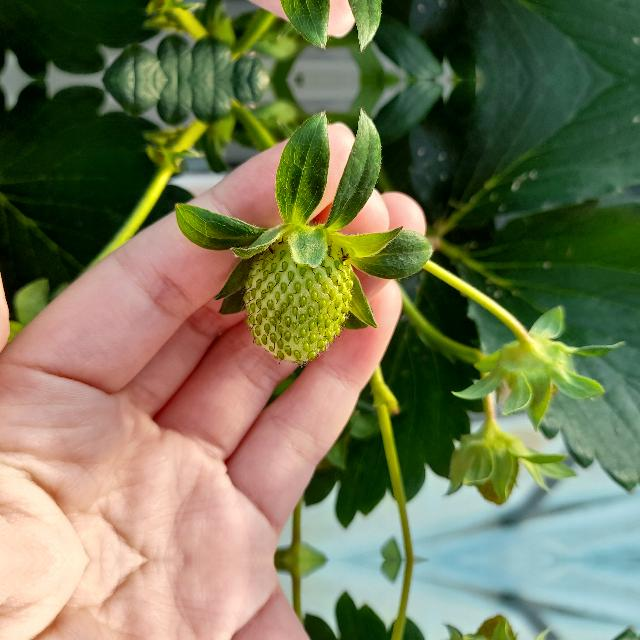Health_25: (242, 238, 352, 362)
